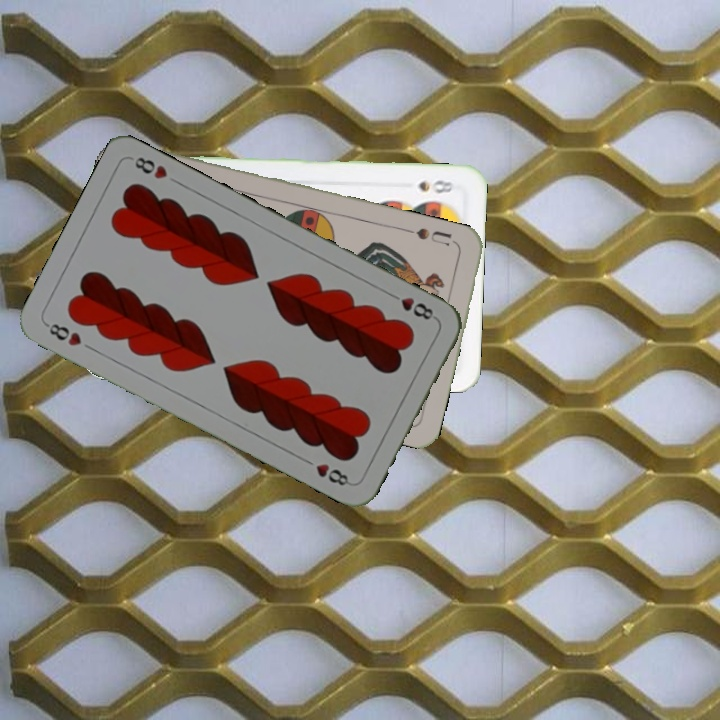H8: (384, 288, 439, 323), (41, 319, 85, 349)
S8: (415, 176, 456, 196)
SU: (412, 224, 454, 249)
